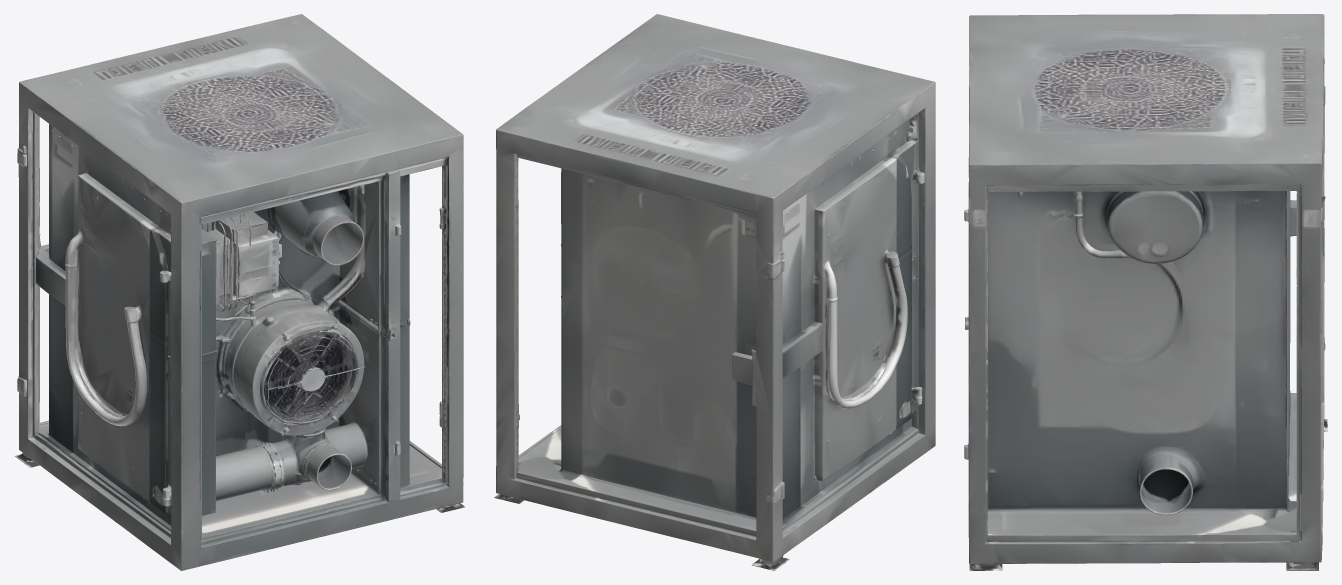
File: modular_ahu_pbr.glb
3 renders of one model, left to right at view 1: azimuth 30°, elevation 25°; view 2: azimuth 150°, elevation 25°; view 3: azimuth 270°, elevation 25°, orthographic. The views are drawn at different scales.
Visible parts, largest first — view 1: model; view 2: model; view 3: model.
Part boxes in pixels (x1=…): model: x1=15, y1=14, x2=464, y2=570; model: x1=494, y1=14, x2=935, y2=570; model: x1=964, y1=14, x2=1327, y2=570.
Bounding box in the file's own units: 1.56 × 1.9 × 1.54.
1 material, 1 textured.
